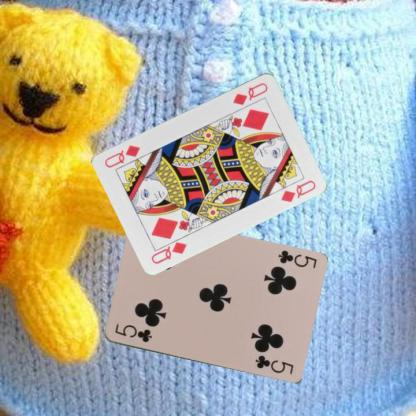5c: (275, 248, 318, 270), (112, 321, 153, 344)
Qd: (148, 232, 188, 265), (230, 80, 269, 106)
